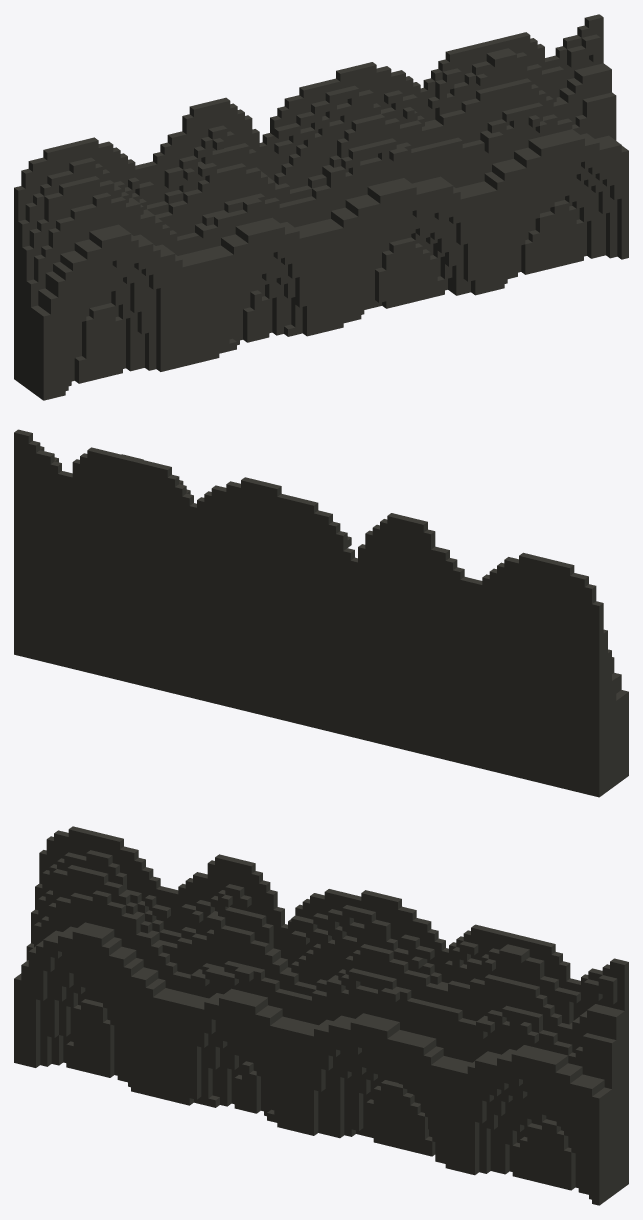
File: VoxelGraveyardWall.obj
3 renders of one model, top to bottom at view 1: azimuth 30°, elevation 25°; view 2: azimuth 150°, elevation 25°; view 3: azimuth 330°, elevation 25°, orthographic.
Bounding box in the file's own units: 8 × 3 × 0.7.
Materials: 1 (1 with a texture image).
